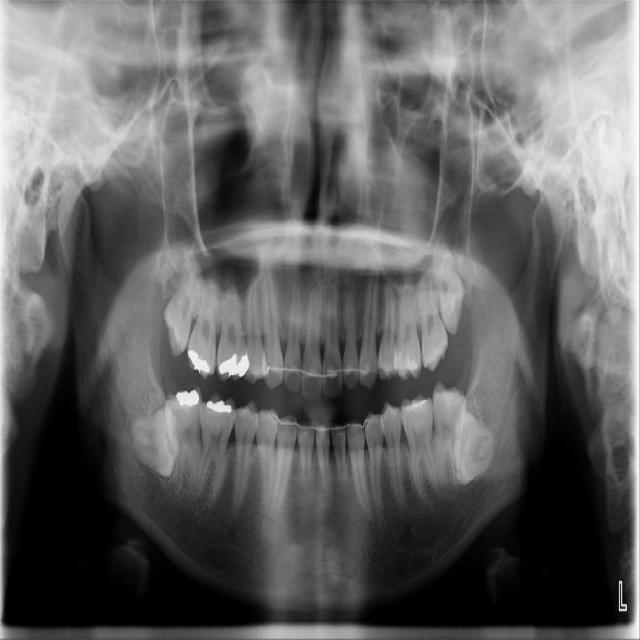3M ESPE Implant: (153, 254, 209, 360)
52: (185, 345, 212, 378), (218, 352, 251, 379), (175, 389, 201, 410), (206, 399, 233, 415)
73: (582, 564, 591, 584)
BioHorizons Implant: (414, 254, 450, 374)
BioLife Implant: (429, 237, 471, 337)
Biomet 3i Implant: (445, 410, 505, 491)
Blue Sky Bio Implant: (431, 380, 470, 494)
Caries: (185, 264, 221, 380)
Implant: (162, 386, 214, 494)
Keystone Dental Implant: (128, 405, 185, 483)
